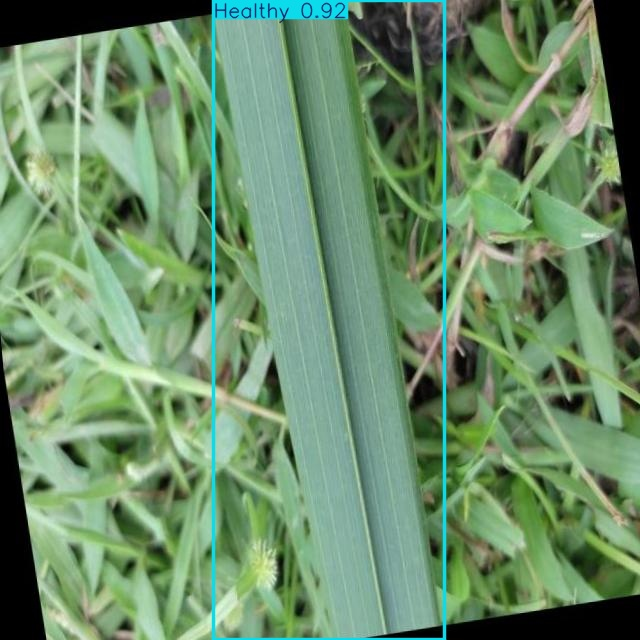Healthy: (213, 0, 445, 639)
